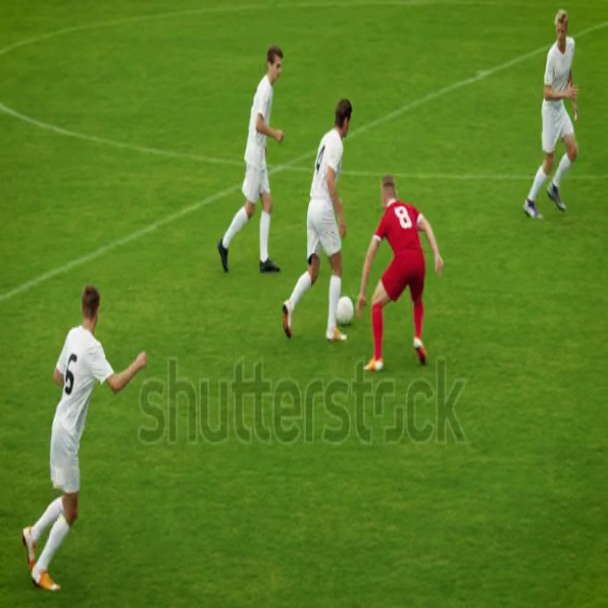ball: (339, 293, 354, 327)
